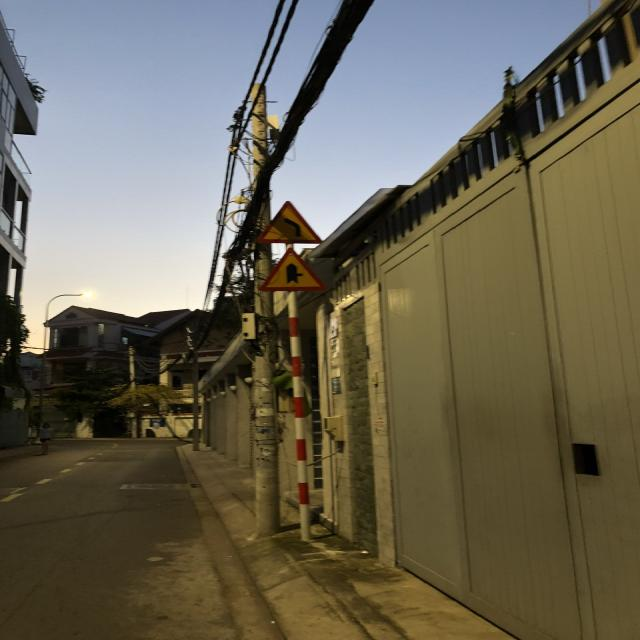Bien bao cho ngoat nguy hiem: (250, 198, 332, 248)
Bien bao giao nhau voi duong khong uu tien: (257, 247, 328, 298)
